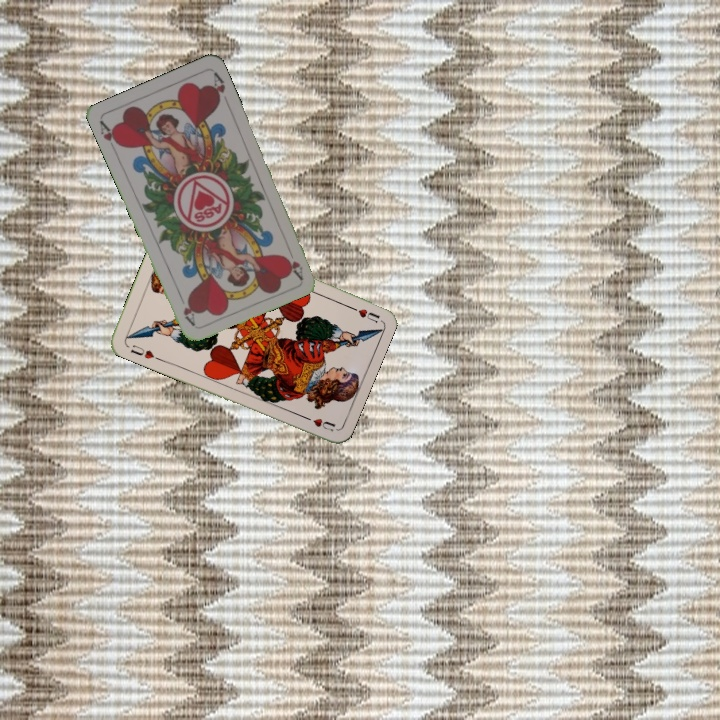HA: (96, 117, 124, 156), (283, 241, 306, 281)
HU: (343, 301, 382, 326), (127, 341, 156, 362)
